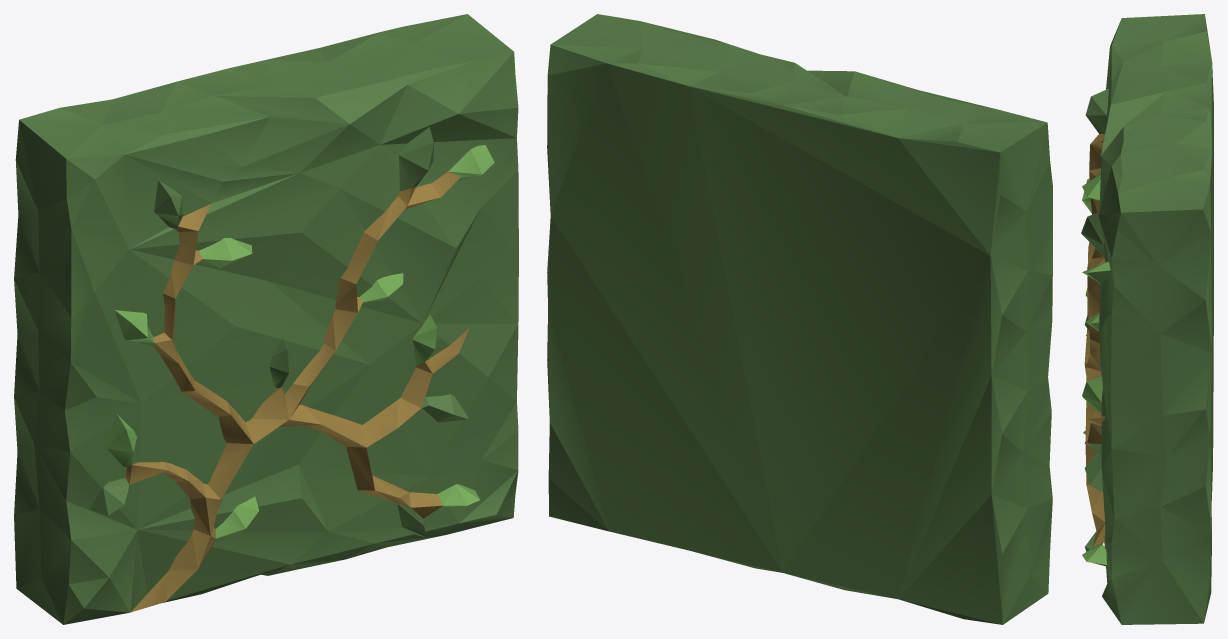
Rendered from BushBranch.fbx.
3 renders of one model, left to right at view 1: azimuth 30°, elevation 25°; view 2: azimuth 150°, elevation 25°; view 3: azimuth 270°, elevation 25°, orthographic. The views are drawn at different scales.
Visible parts, largest first — view 1: BushBranch; view 2: BushBranch; view 3: BushBranch.
Part boxes in pixels (x1=…): BushBranch: x1=14, y1=14, x2=518, y2=624; BushBranch: x1=547, y1=14, x2=1052, y2=624; BushBranch: x1=1081, y1=14, x2=1213, y2=624.
Bounding box in the file's own units: 99.8 × 28.71 × 99.8.
